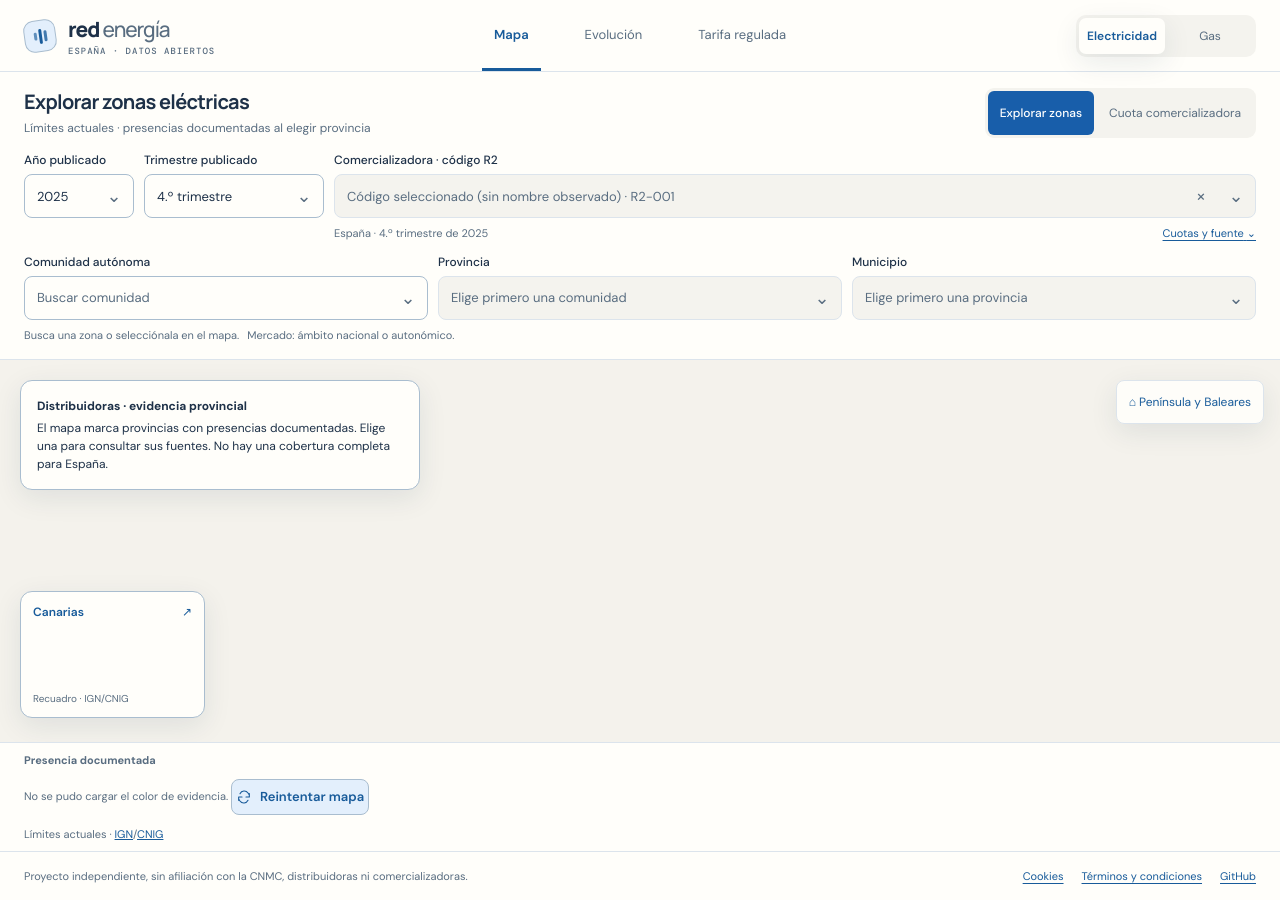
map loading errors › offers a retry after unavailable electricity data and keeps a missing share endpoint pending
The width and height of the screenshot is (1280, 900).
expect the dropdown labelled "Comunidad autónoma" is enabled: met, box [24,276,428,320]
Click the button "Cuotas y fuente ⌄" at [1209, 233], box [1162,225,1256,242]
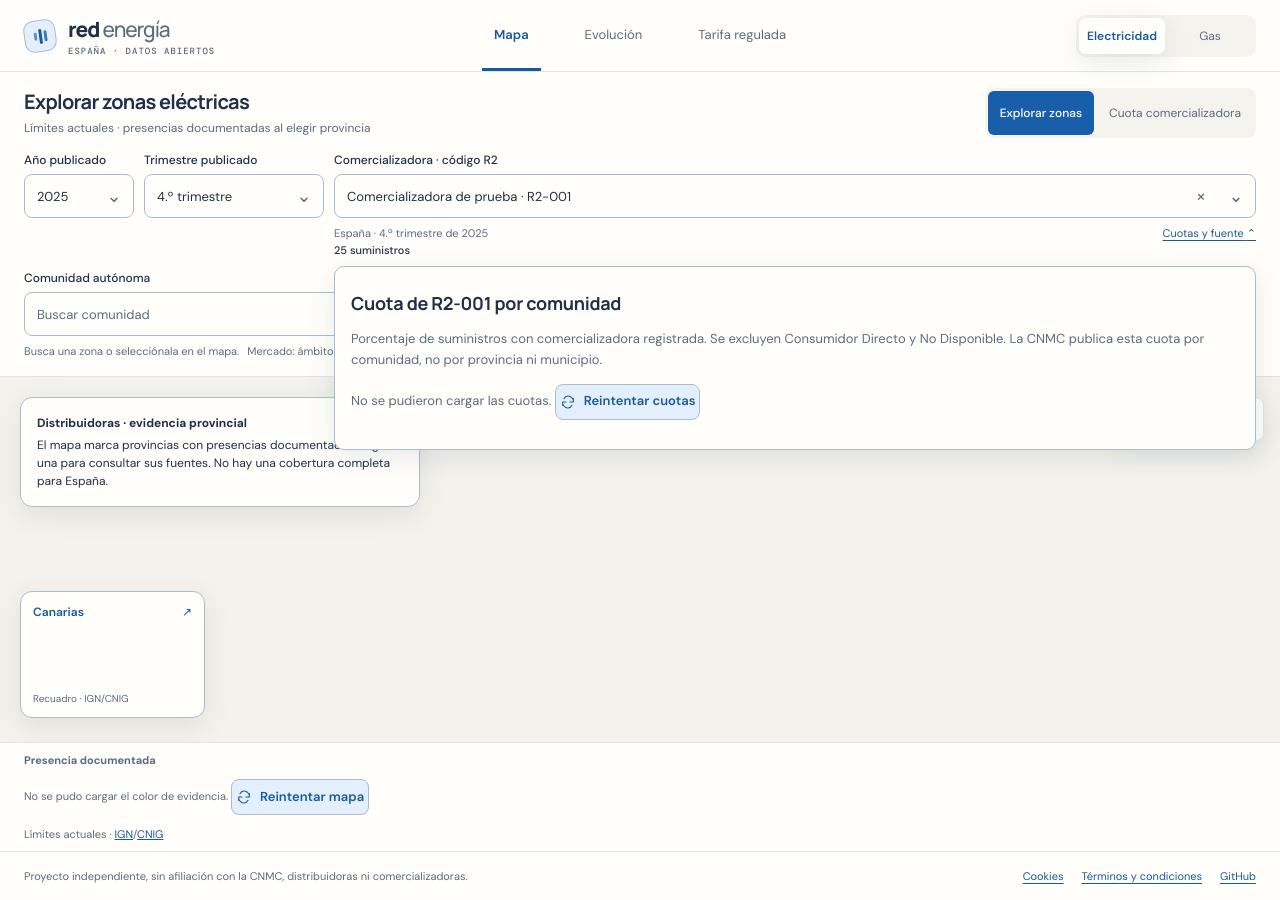
expect the button "Reintentar cuotas" is shown: met
Click the button "Reintentar cuotas" at [628, 402], box [555,384,700,420]
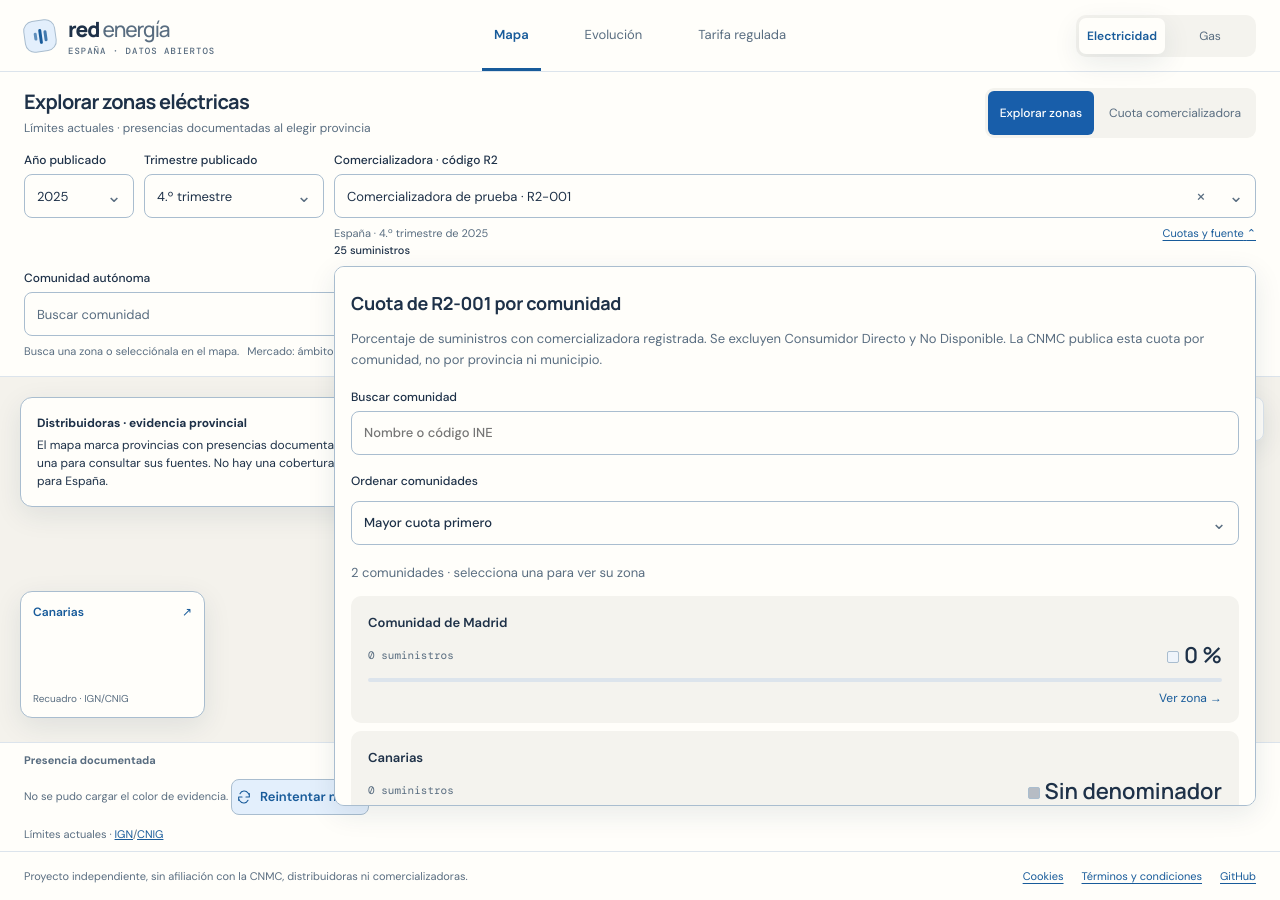
expect the list named "Cuotas autonómicas · 2025T4" is shown: met, box [351,596,1239,806]
Click the link "Evolución" at [613, 34], box [585,26,642,42]
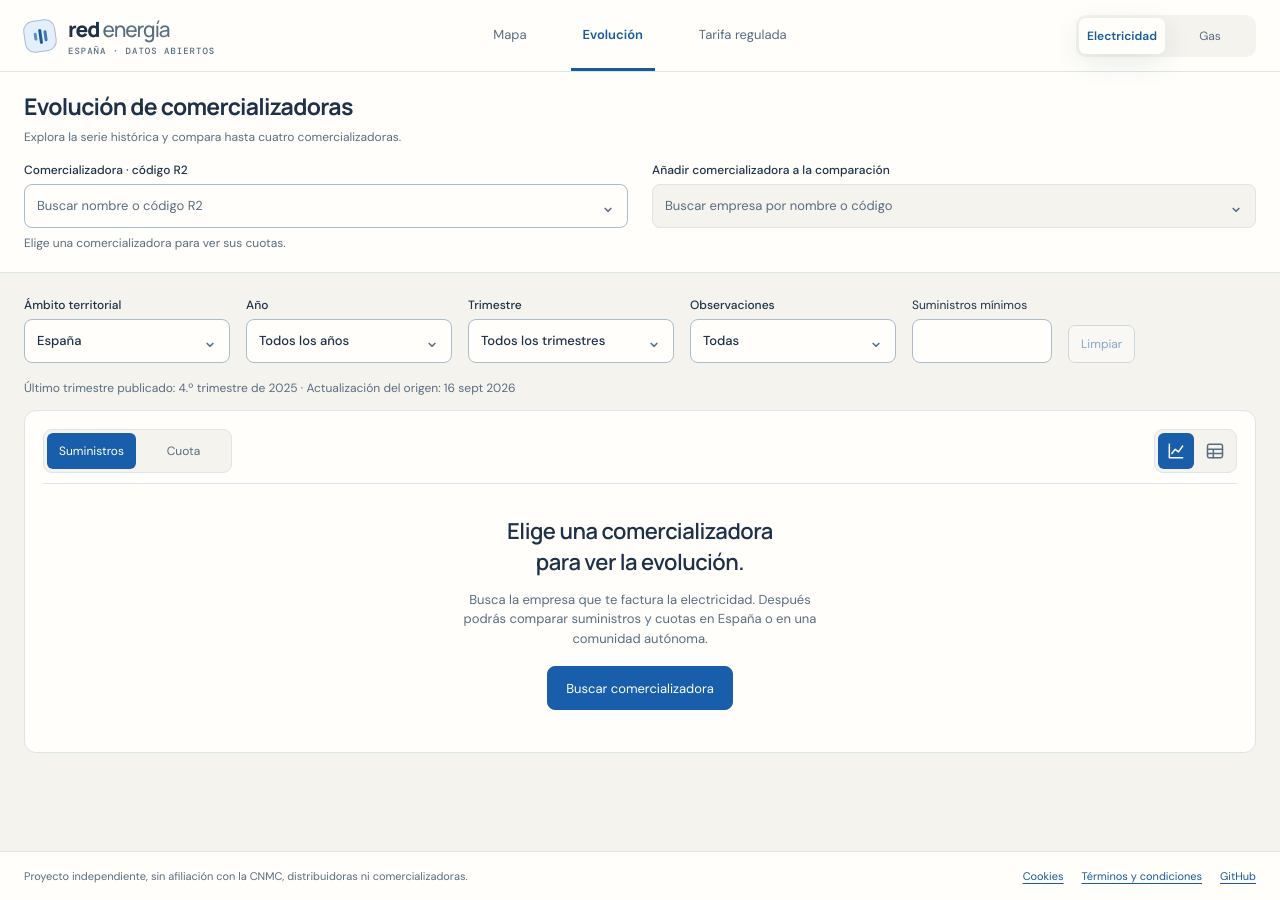
expect the dropdown labelled "Comercializadora · código R2" is enabled: met
Type "R2-001" into the dropdown labelled "Comercializadora · código R2" at [326, 206], box [24,184,628,228]
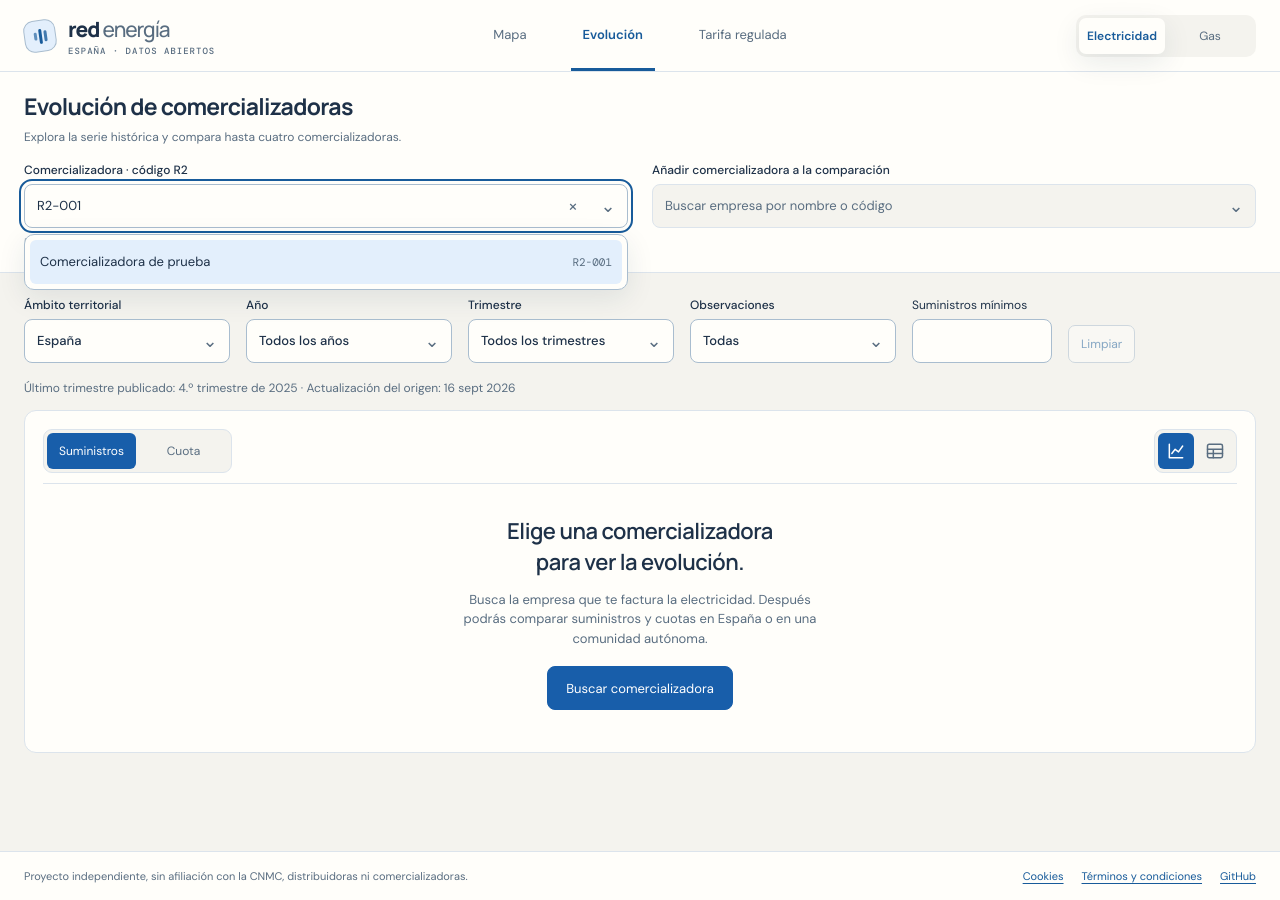
Press Enter in the dropdown labelled "Comercializadora · código R2", box [24,184,628,228]
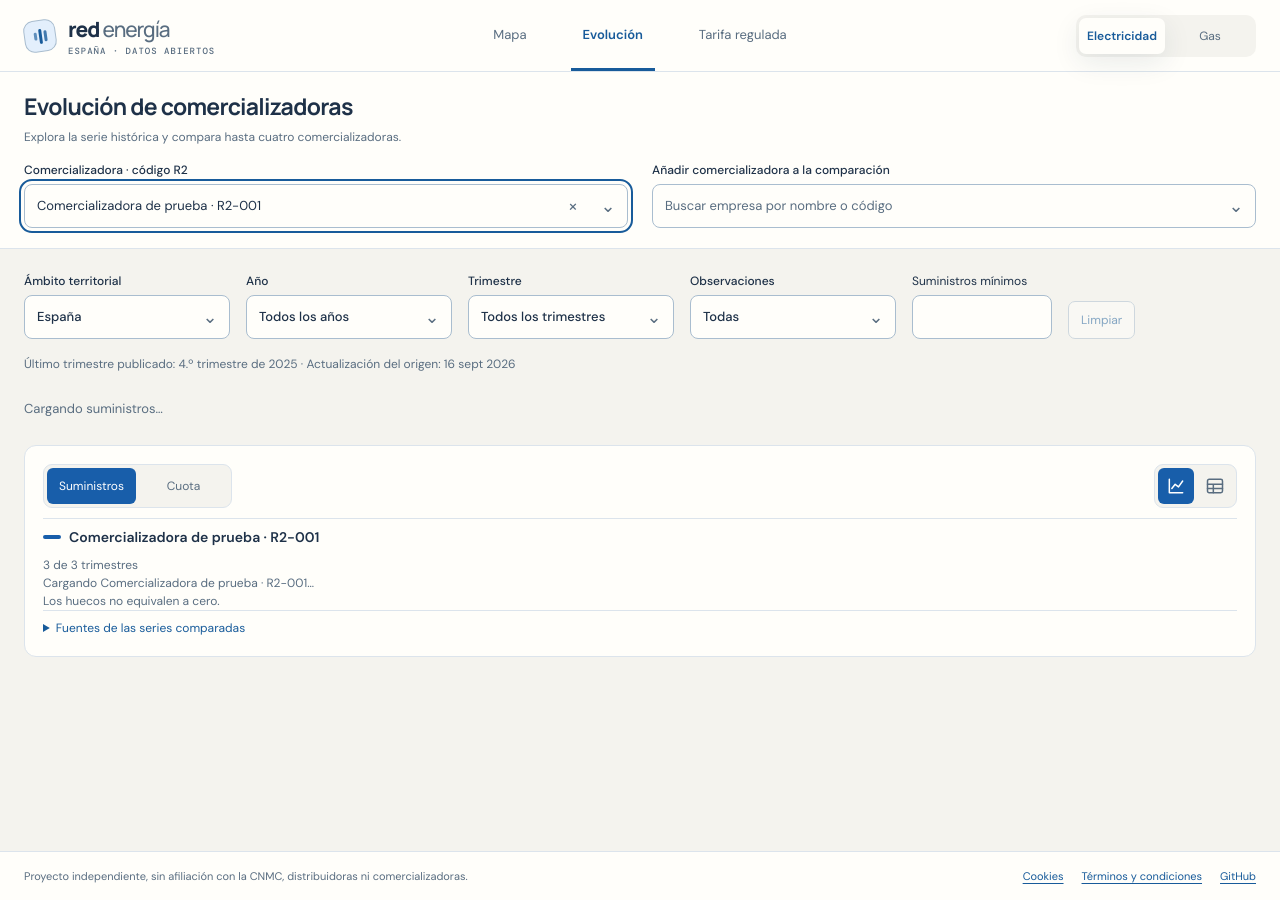
Click the button "Cuota" at [184, 486], box [139,468,228,504]
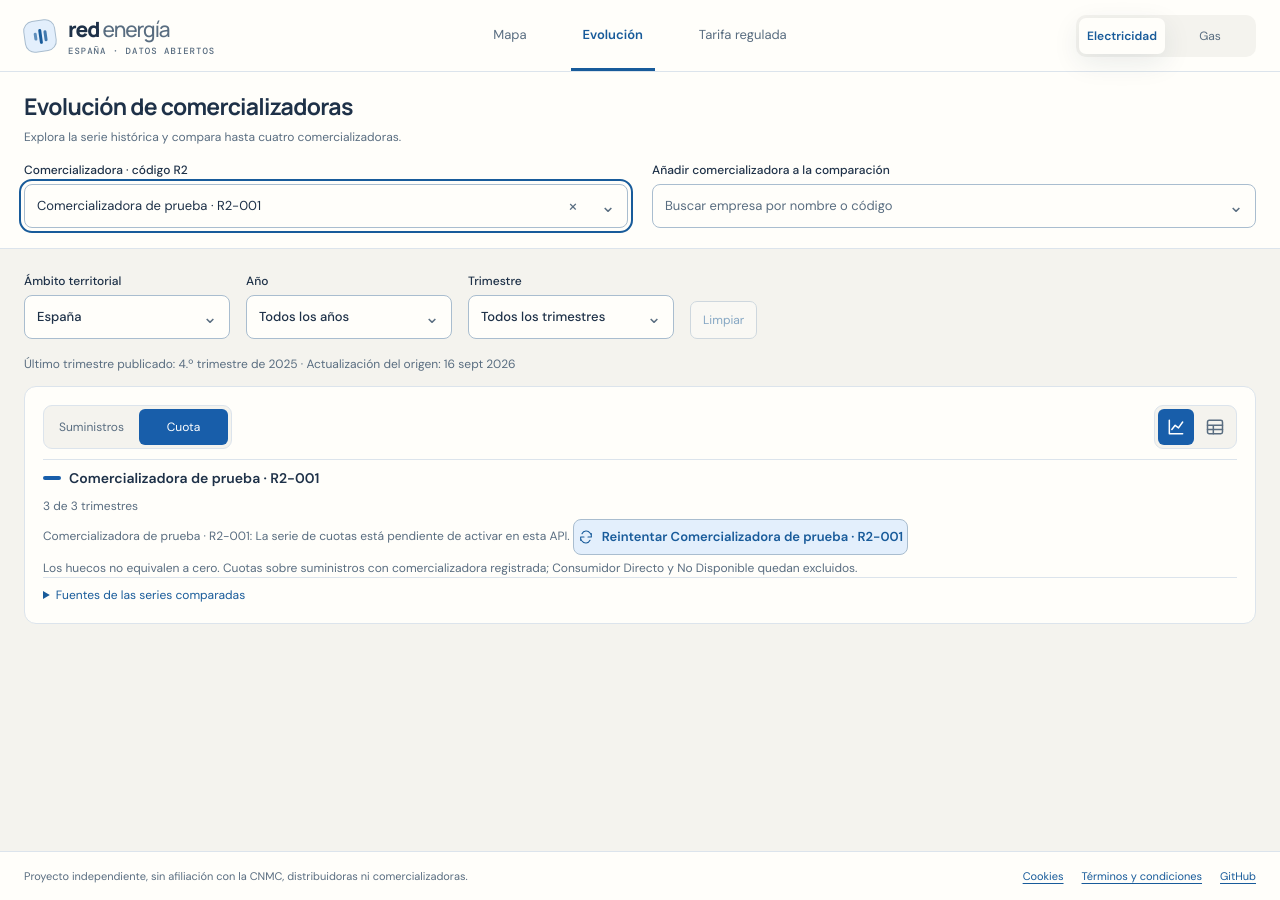
expect the text "La serie de cuotas está pendiente de activar en esta API" is shown: met, box [255,528,570,544]
